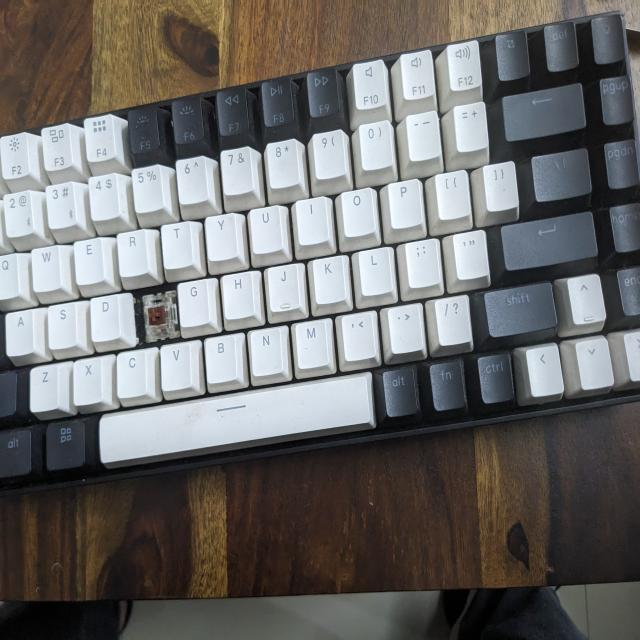C: (137, 291, 176, 346)
